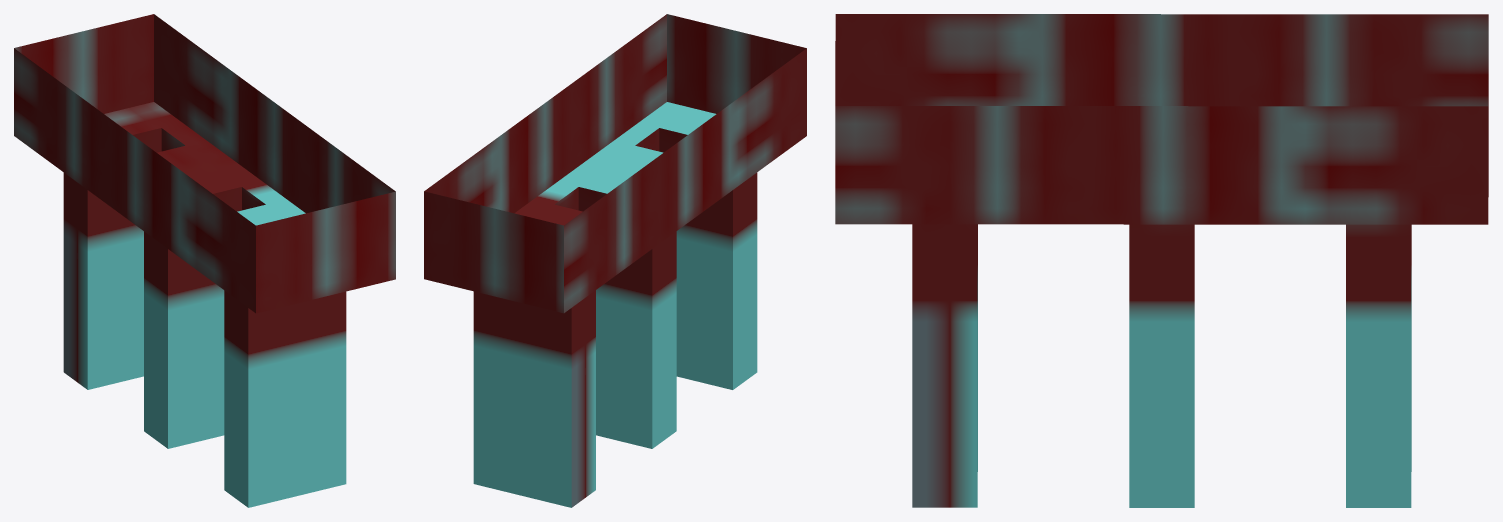
File: SM_BridgeColumn_v02.FBX
3 views of the same model, side by side, from view 1: azimuth 30°, elevation 25°; view 2: azimuth 150°, elevation 25°; view 3: azimuth 270°, elevation 25° (orthographic). The views are drawn at different scales.
Visible parts, largest first — view 1: SM_BridgeColumn_v02; view 2: SM_BridgeColumn_v02; view 3: SM_BridgeColumn_v02.
Boxes of the visible parts, x1,y1,x2,y2 form: SM_BridgeColumn_v02: (14,14,395,507); SM_BridgeColumn_v02: (424,14,806,507); SM_BridgeColumn_v02: (835,14,1488,507).
Bounding box in the file's own units: 5.02 × 10.54 × 15.02.
